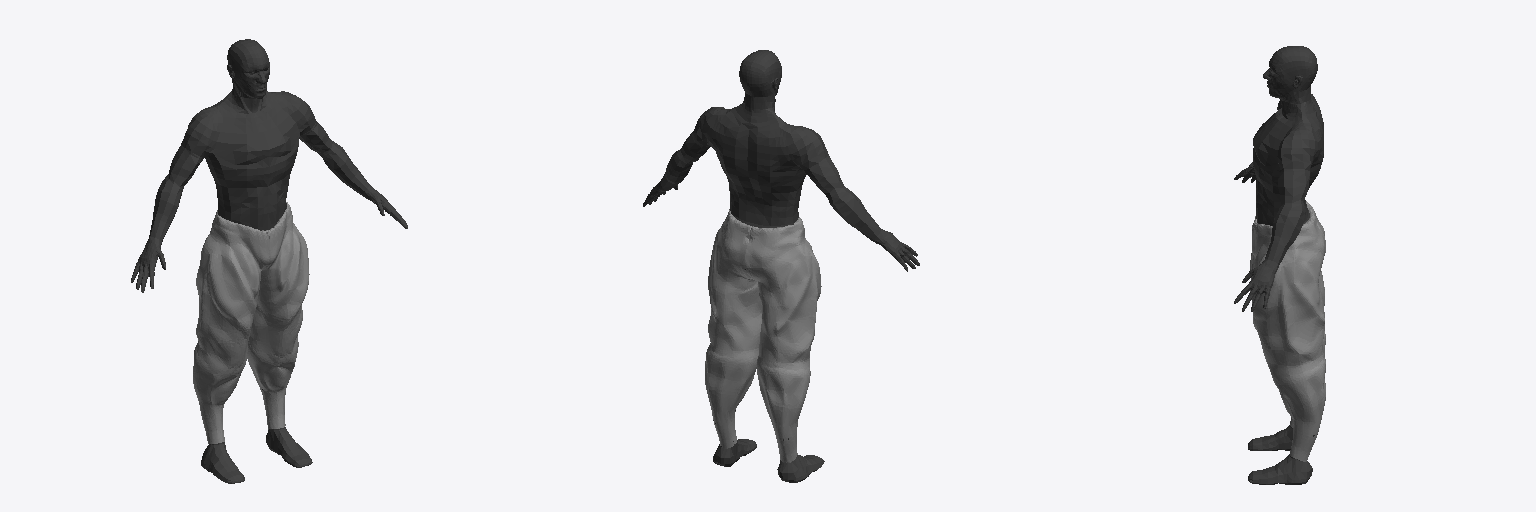
Rendered from Character.obj.
3 views of the same model, side by side, from view 1: azimuth 30°, elevation 25°; view 2: azimuth 150°, elevation 25°; view 3: azimuth 270°, elevation 25° (orthographic).
Visible parts, largest first — view 1: Body; view 2: Body; view 3: Body.
Part boxes in pixels (left/top/right/bottom): Body: left=131, top=39, right=407, bottom=483; Body: left=643, top=50, right=919, bottom=482; Body: left=1234, top=46, right=1325, bottom=484.
Size of the model in its own units: 46.26 by 68.94 by 13.91.